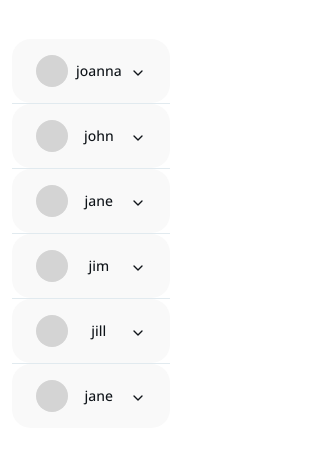
it: SearchUserAccordion › should display loading state (loader) when dataLoading is true
This screenshot has width=332, height=449.
Click the button "joanna": (91, 70) [12,38,170,102]
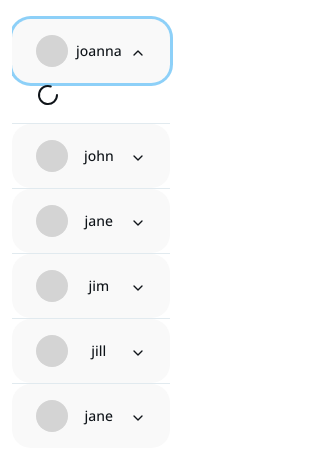
Expected: the icon with test id "SearchUserAccordion__data-loader" is shown, [36,82,60,106]
